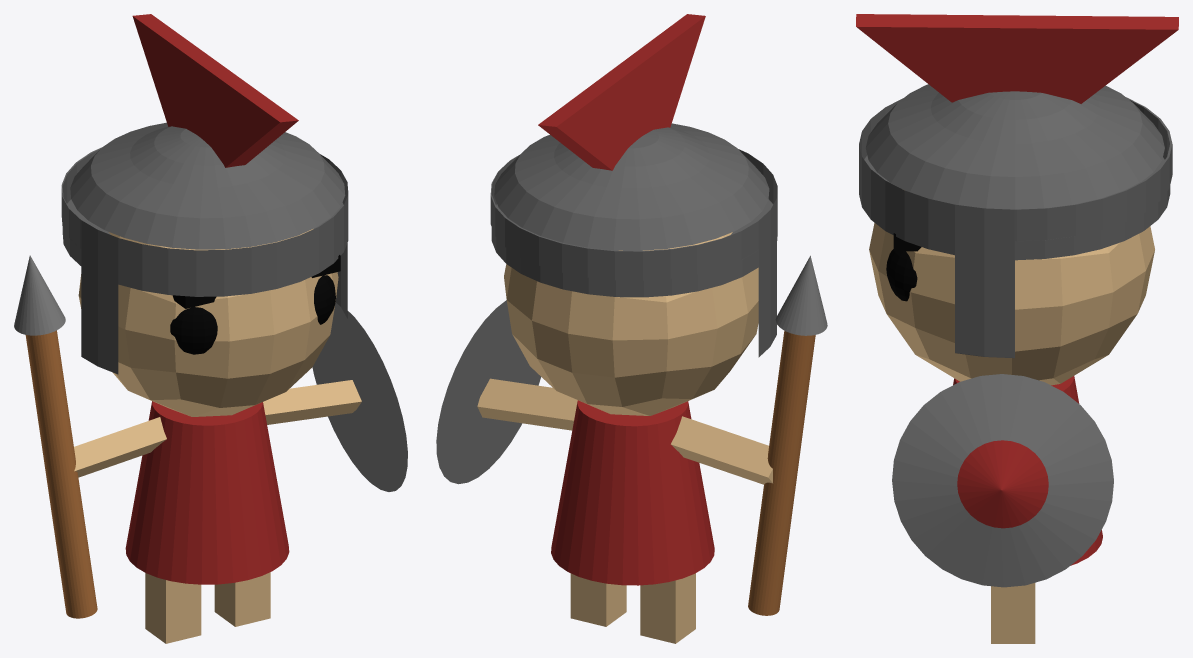
Rendered from chararoman.fbx.
3 views of the same model, side by side, from view 1: azimuth 30°, elevation 25°; view 2: azimuth 150°, elevation 25°; view 3: azimuth 270°, elevation 25° (orthographic). The views are drawn at different scales.
Parts seen in each view (by area): view 1: Roundcube.001; view 2: Roundcube.001; view 3: Roundcube.001.
Part boxes in pixels (x1,y1,x2,y2): Roundcube.001: (14, 14, 407, 643); Roundcube.001: (436, 14, 827, 643); Roundcube.001: (856, 14, 1178, 643).
Size of the model in its own units: 318 by 464 by 226.
